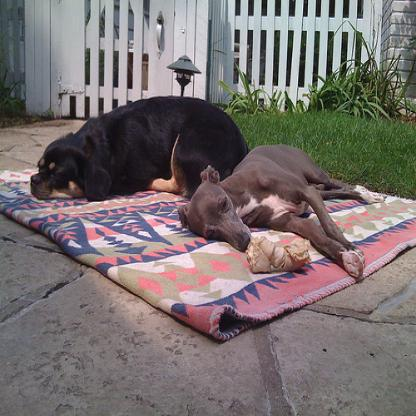dog: (177, 143, 385, 280), (29, 95, 248, 200)
